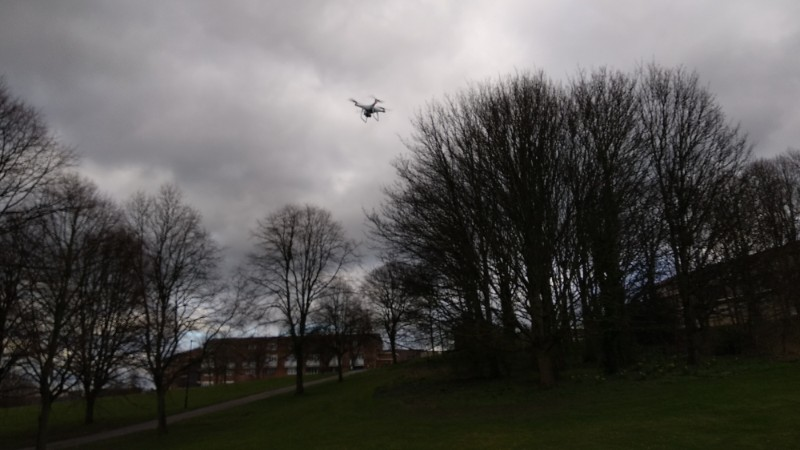drone: (350, 97, 389, 122)
